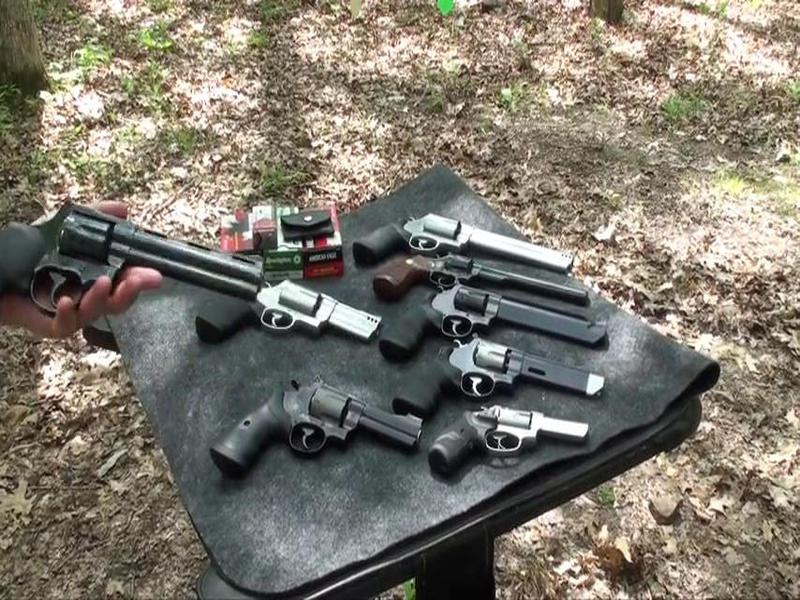Revolver: (5, 181, 269, 327), (209, 370, 426, 488), (354, 202, 578, 268), (441, 394, 592, 475)
